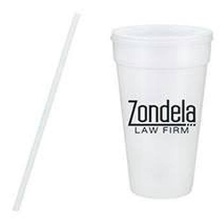drinking_straw: (7, 5, 88, 215)
paper_cup: (102, 19, 217, 202)
